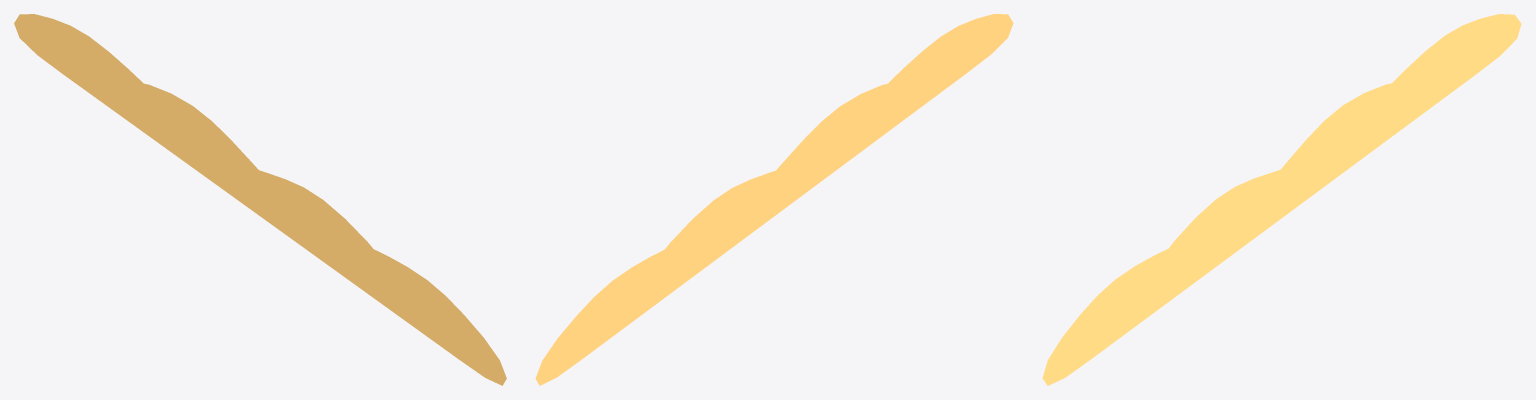
File: decierto 1.fbx
3 renders of one model, left to right at view 1: azimuth 30°, elevation 25°; view 2: azimuth 150°, elevation 25°; view 3: azimuth 330°, elevation 25°, orthographic.
Visible parts, largest first — view 1: decierto 1; view 2: decierto 1; view 3: decierto 1.
Part boxes in pixels (left/top/right/bottom): decierto 1: left=14, top=14, right=506, bottom=385; decierto 1: left=535, top=14, right=1013, bottom=385; decierto 1: left=1042, top=14, right=1521, bottom=385.
Size of the model in its own units: 21.35 by 195 by 2628.
